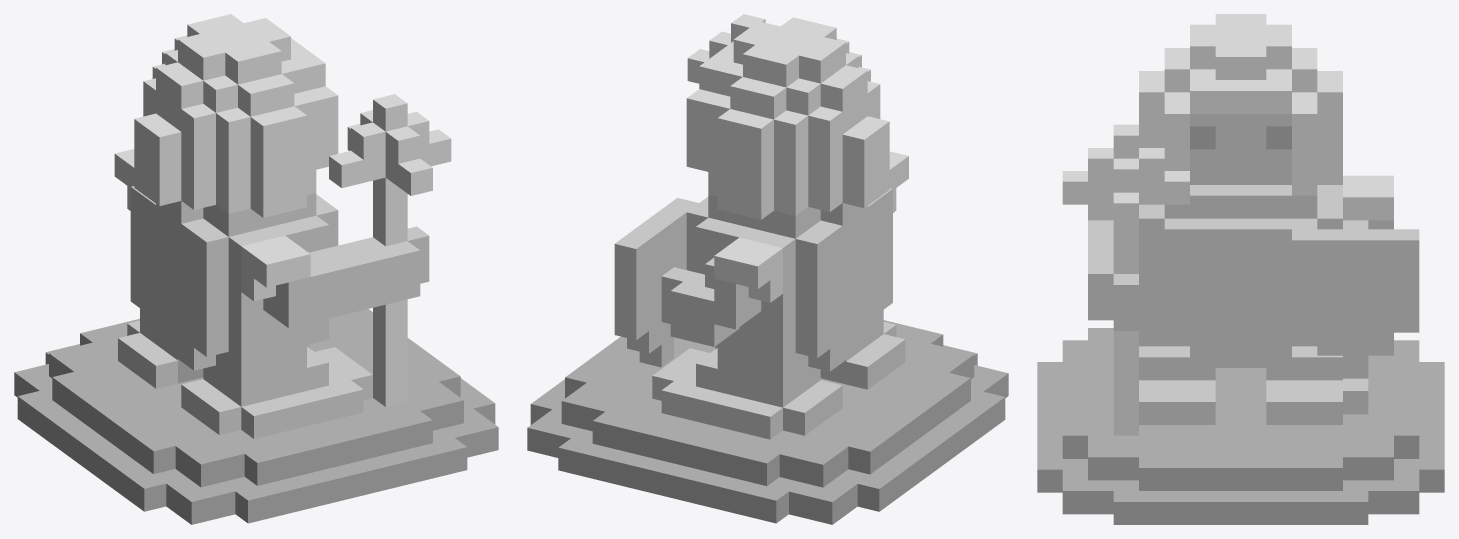
The model's file is GuardStatue.obj.
The picture shows the model from 3 angles, left to right: view 1: azimuth 30°, elevation 25°; view 2: azimuth 150°, elevation 25°; view 3: azimuth 270°, elevation 25°; orthographic projection.
Bounding box in the file's own units: 16 × 17 × 16.
1 material, 1 textured.
